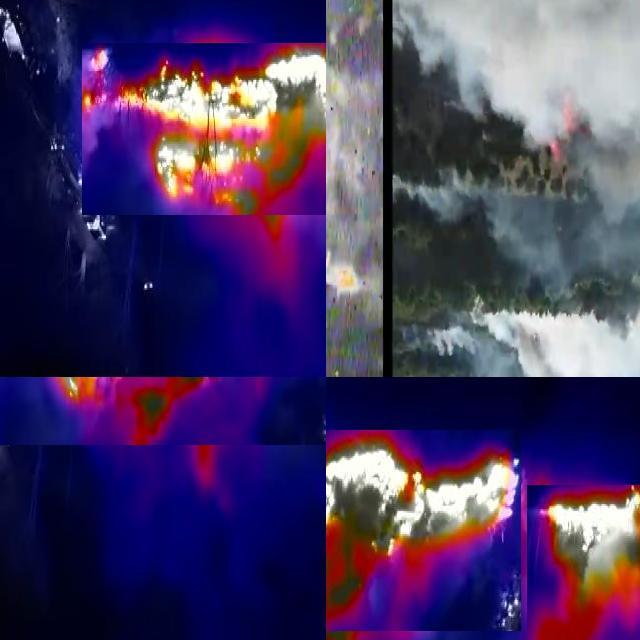fire: (83, 44, 327, 216), (327, 431, 522, 632), (1, 378, 327, 446), (528, 486, 640, 640), (550, 97, 581, 167), (327, 252, 367, 301)
